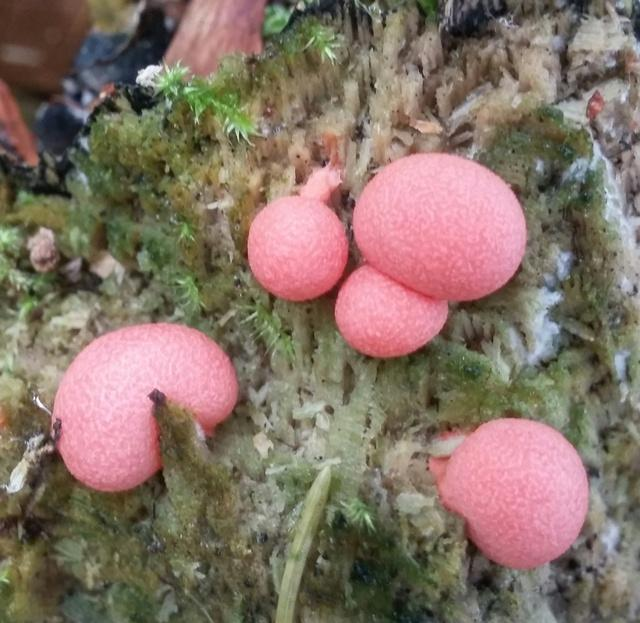poisonous_mushroom: (47, 320, 239, 493), (350, 150, 528, 302), (426, 415, 590, 570), (245, 150, 349, 302), (333, 263, 449, 358)
